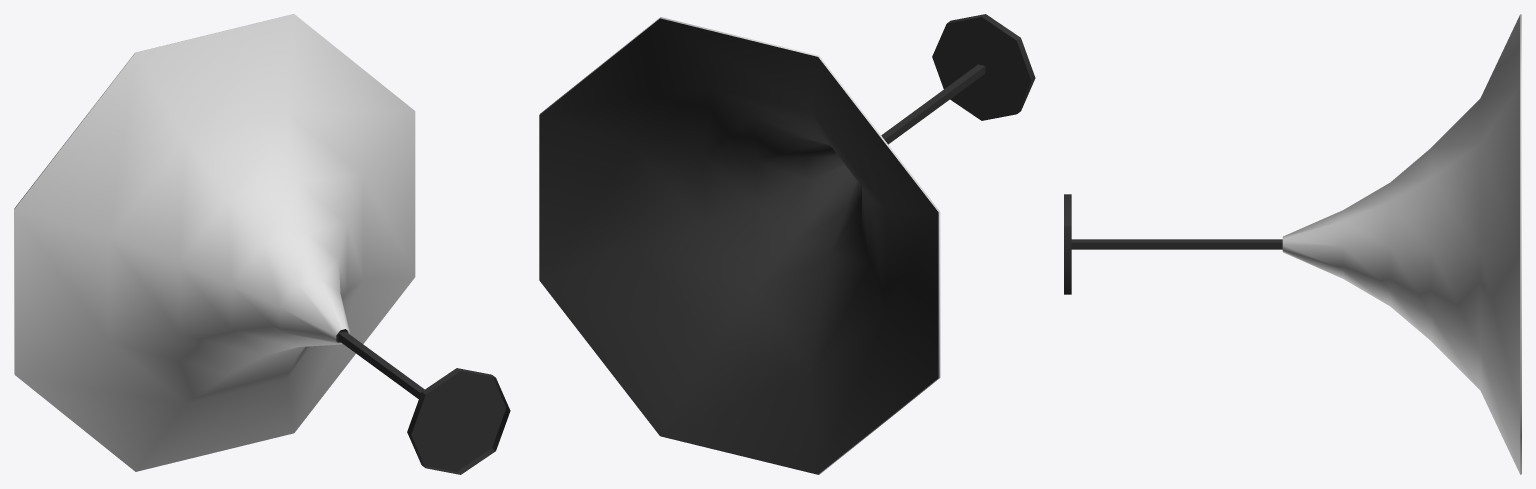
File: nt_2020_light_fixture_01_LOD1.obj
The picture shows the model from 3 angles, left to right: view 1: azimuth 30°, elevation 25°; view 2: azimuth 150°, elevation 25°; view 3: azimuth 270°, elevation 25°; orthographic projection. The views are drawn at different scales.
Visible parts, largest first — view 1: ap_chrome, nt_2020_metal_stainless; view 2: nt_2020_metal_stainless, ap_chrome; view 3: ap_chrome, nt_2020_metal_stainless.
Boxes of the visible parts, x1=… form: ap_chrome: x1=14, y1=14, x2=415, y2=471; nt_2020_metal_stainless: x1=336, y1=329, x2=510, y2=474; nt_2020_metal_stainless: x1=539, y1=14, x2=1035, y2=474; ap_chrome: x1=539, y1=17, x2=940, y2=474; ap_chrome: x1=1282, y1=14, x2=1521, y2=474; nt_2020_metal_stainless: x1=1064, y1=194, x2=1282, y2=294.
Size of the model in its own units: 71.69 by 71.69 by 76.46.
